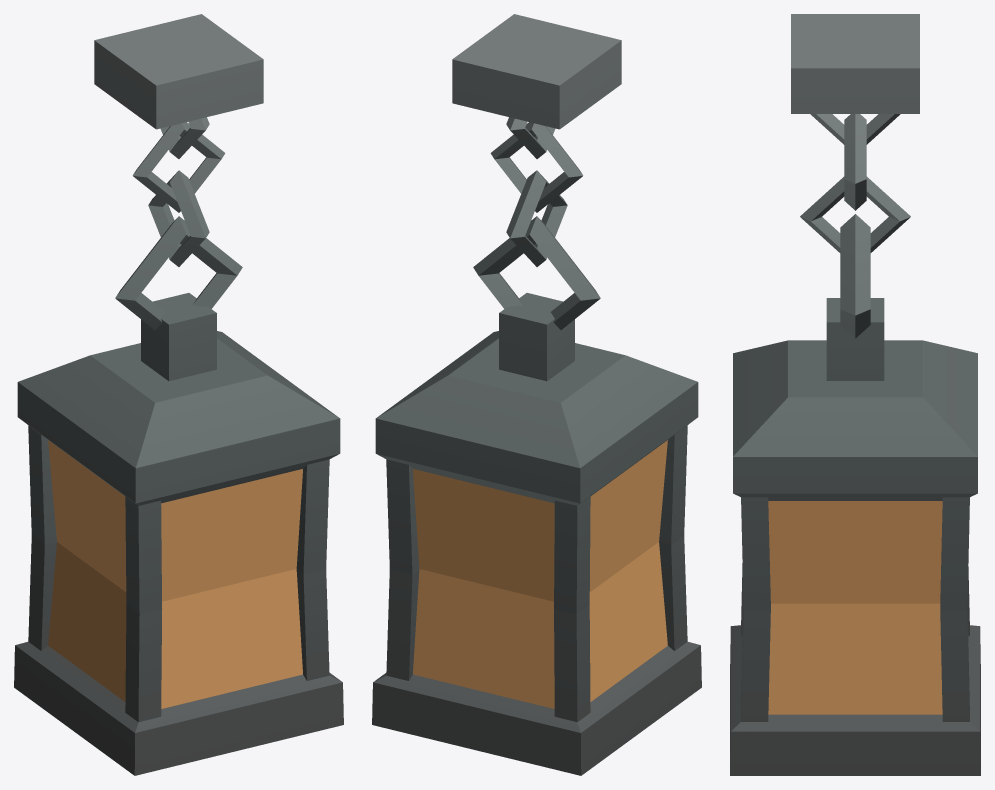
The model's file is Lantern_03.fbx.
The picture shows the model from 3 angles, left to right: view 1: azimuth 30°, elevation 25°; view 2: azimuth 150°, elevation 25°; view 3: azimuth 270°, elevation 25°; orthographic projection. The views are drawn at different scales.
Visible parts, largest first — view 1: Lantern_03; view 2: Lantern_03; view 3: Lantern_03.
Part boxes in pixels (left/top/right/bottom): Lantern_03: left=14, top=14, right=343, bottom=775; Lantern_03: left=372, top=14, right=701, bottom=775; Lantern_03: left=730, top=14, right=980, bottom=775.
Size of the model in its own units: 0.2566 by 0.7695 by 0.2566.
